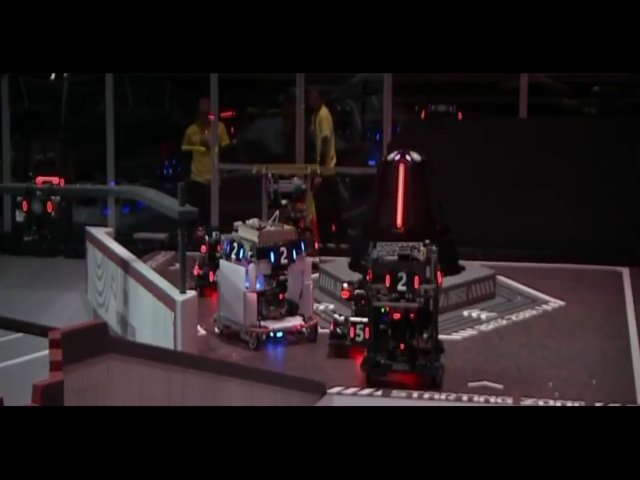bluePlate: (410, 363, 445, 401), (395, 203, 437, 232), (473, 198, 496, 230)
redPlate: (223, 269, 273, 308), (306, 263, 335, 298), (169, 232, 191, 271), (126, 247, 154, 277)
